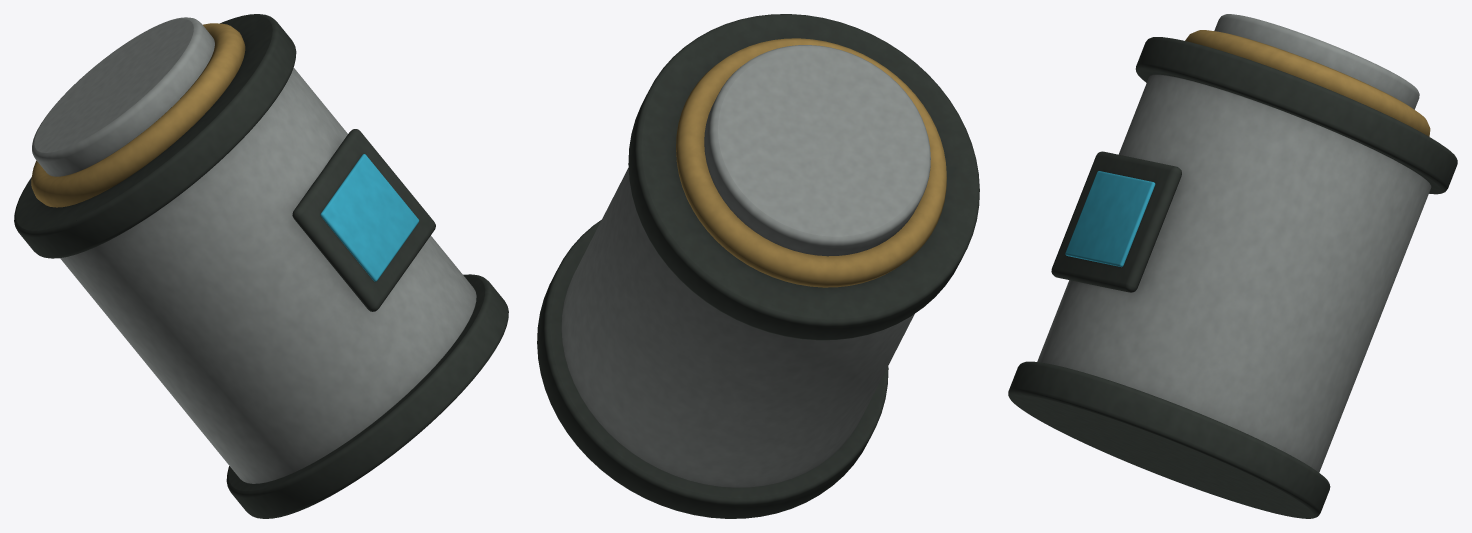
The picture shows the model from 3 angles, left to right: view 1: azimuth 30°, elevation 25°; view 2: azimuth 150°, elevation 25°; view 3: azimuth 270°, elevation 25°; orthographic projection. The views are drawn at different scales.
Parts seen in each view (by area): view 1: Pressure shell; view 2: Pressure shell; view 3: Pressure shell.
Part boxes in pixels (x1,y1,x2,y2): Pressure shell: [14, 14, 508, 518]; Pressure shell: [537, 14, 979, 518]; Pressure shell: [1008, 14, 1457, 518].
Bounding box in the file's own units: 1.2 × 1.28 × 1.13.
1 material, 1 textured.
